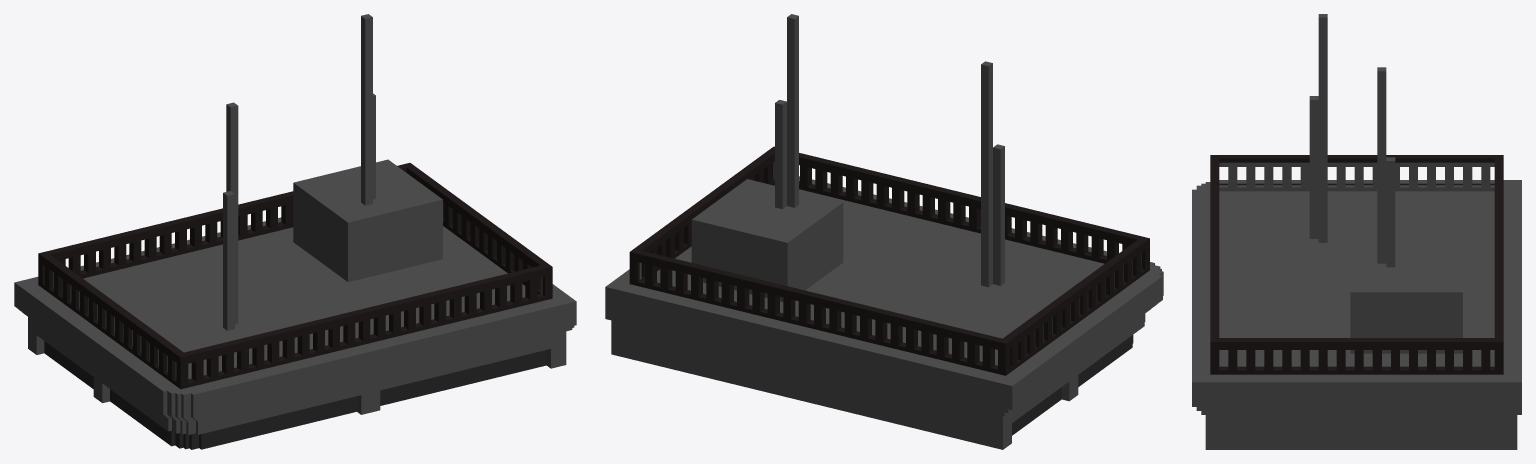
File: Map2 (p1)-1.obj
3 renders of one model, left to right at view 1: azimuth 30°, elevation 25°; view 2: azimuth 150°, elevation 25°; view 3: azimuth 270°, elevation 25°, orthographic. The views are drawn at different scales.
Size of the model in its own units: 10.6 by 7.9 by 7.3.
Materials: 1 (1 with a texture image).
